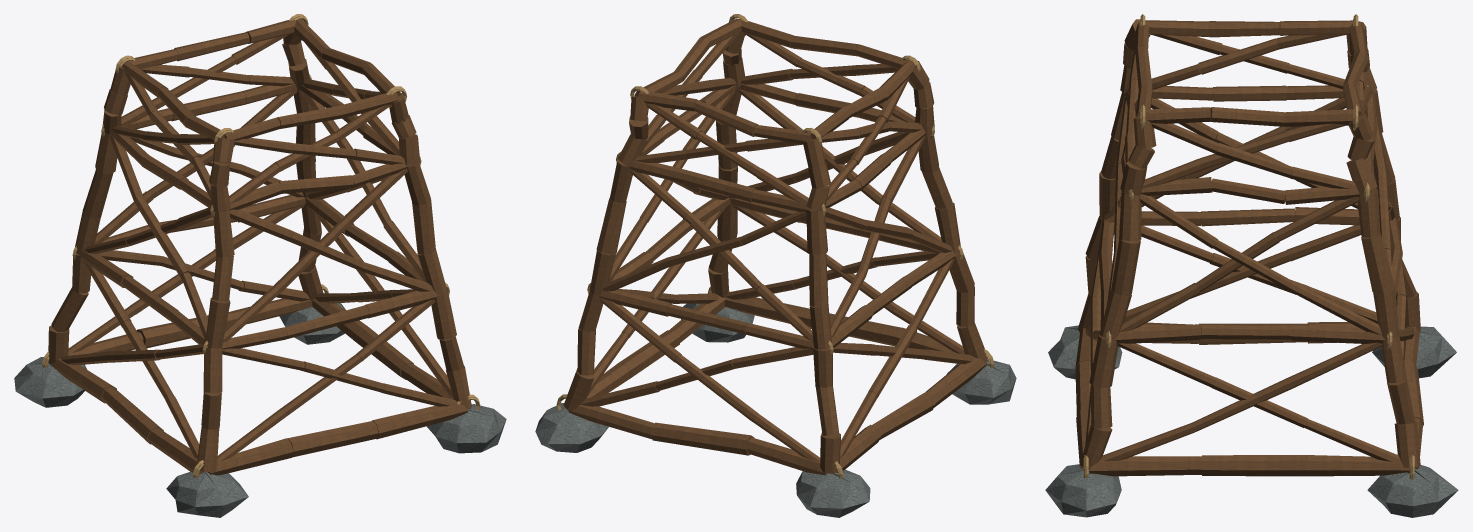
File: cs-012_signal_beacon_partial.obj
3 views of the same model, side by side, from view 1: azimuth 30°, elevation 25°; view 2: azimuth 150°, elevation 25°; view 3: azimuth 270°, elevation 25° (orthographic). The views are drawn at different scales.
Parts seen in each view (by area): view 1: cs-012_signal_beacon_partial; view 2: cs-012_signal_beacon_partial; view 3: cs-012_signal_beacon_partial.
Boxes of the visible parts, x1,y1,x2,y2 form: cs-012_signal_beacon_partial: (14, 14, 506, 517); cs-012_signal_beacon_partial: (535, 14, 1016, 517); cs-012_signal_beacon_partial: (1045, 14, 1458, 517).
Bounding box in the file's own units: 1.46 × 1.46 × 1.42.
3 materials, 3 textured.
